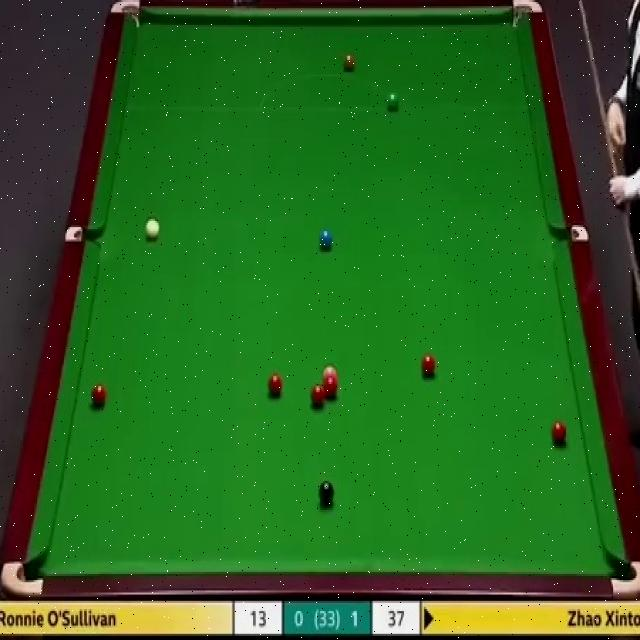black-ball: (319, 478, 335, 506)
blue-ball: (319, 227, 334, 250)
brown-ball: (343, 52, 355, 73)
green-ball: (385, 90, 399, 111)
pink-ball: (322, 366, 338, 380)
red-ball: (91, 381, 108, 409), (420, 353, 436, 378), (359, 154, 376, 177), (551, 422, 568, 445), (322, 377, 339, 398), (267, 374, 282, 396), (311, 386, 326, 406)
white-ball: (143, 215, 161, 241)
yellow-ball: (253, 89, 267, 110)
